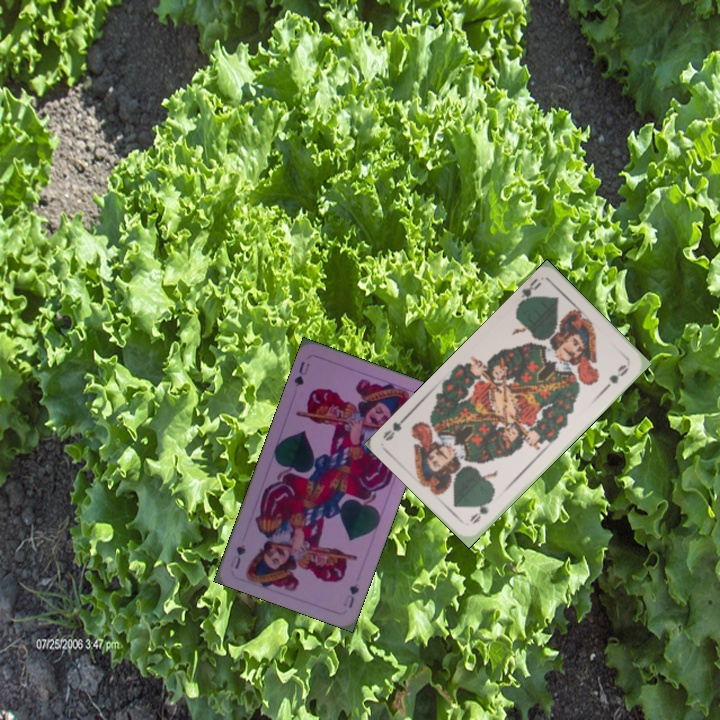GO: (465, 493, 496, 527), (514, 275, 544, 309)
GU: (339, 579, 362, 611), (290, 357, 312, 389)
